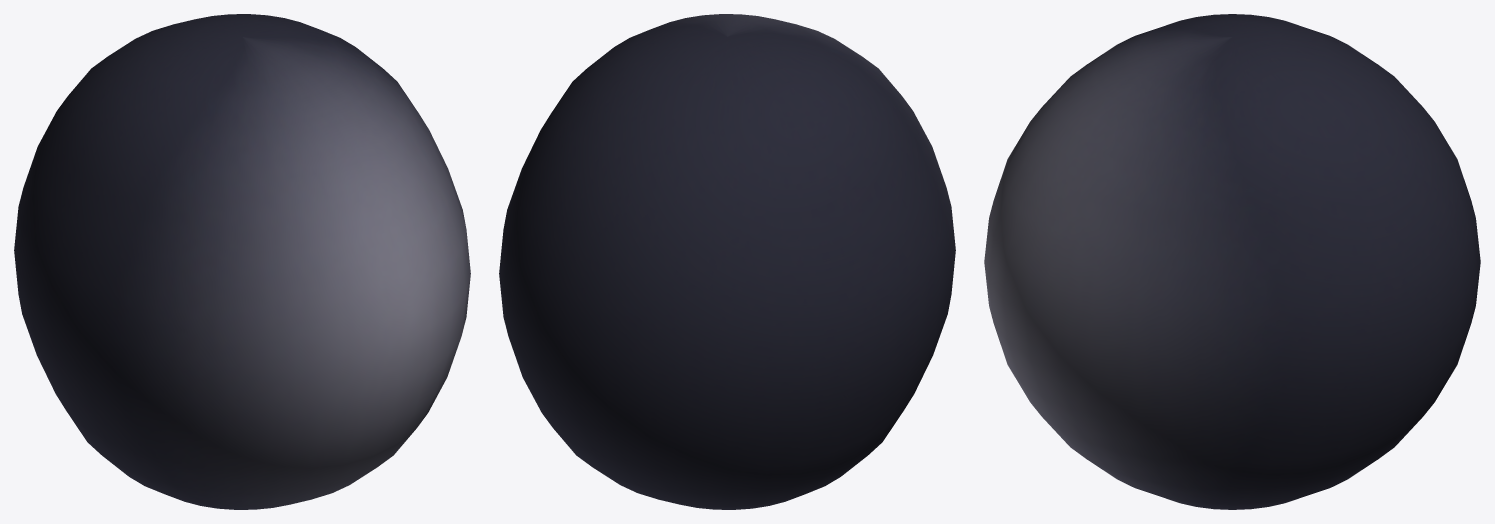
The model's file is eraserDust.FBX.
3 renders of one model, left to right at view 1: azimuth 30°, elevation 25°; view 2: azimuth 150°, elevation 25°; view 3: azimuth 270°, elevation 25°, orthographic.
Parts seen in each view (by area): view 1: Sphere001; view 2: Sphere001; view 3: Sphere001.
Boxes of the visible parts, x1,y1,x2,y2 form: Sphere001: [14, 14, 470, 509]; Sphere001: [499, 14, 955, 509]; Sphere001: [984, 14, 1480, 509].
Bounding box in the file's own units: 3.98 × 4.46 × 4.46.
1 material, 1 textured.
